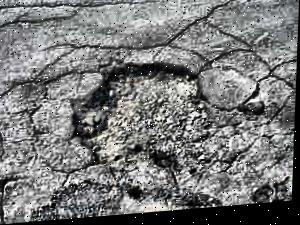pothole: (71, 59, 210, 165)
